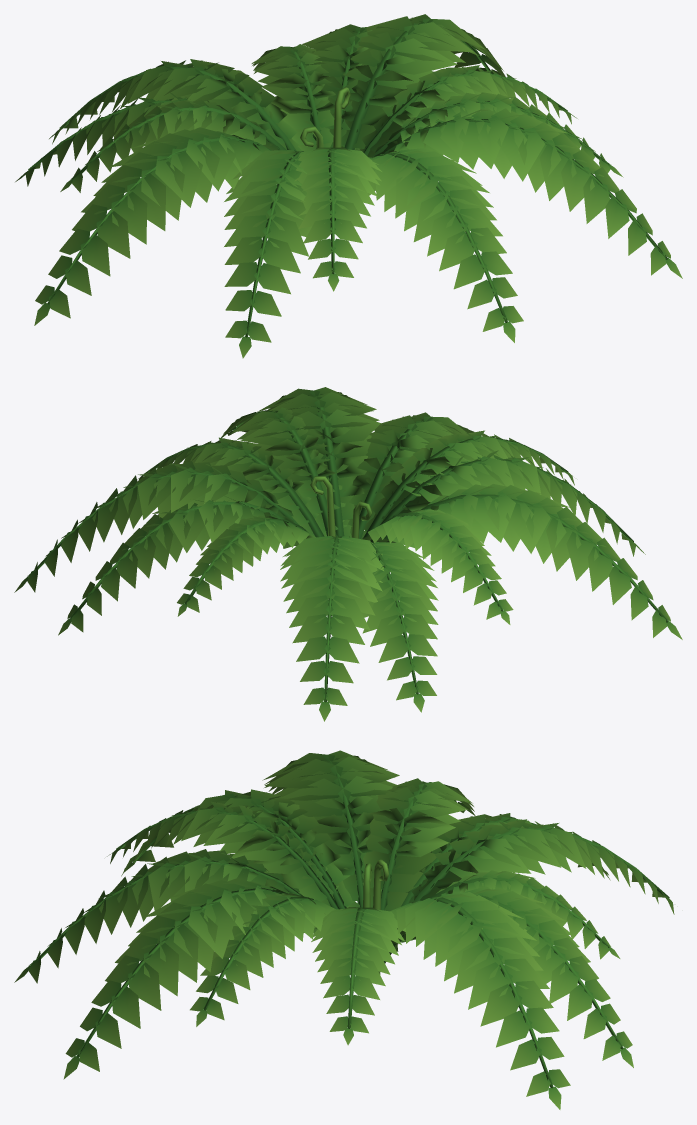
File: plant_fern_a.glb
The picture shows the model from 3 angles, top to bottom: view 1: azimuth 30°, elevation 25°; view 2: azimuth 150°, elevation 25°; view 3: azimuth 270°, elevation 25°; orthographic projection. The views are drawn at different scales.
Visible parts, largest first — view 1: plant_fern_a; view 2: plant_fern_a; view 3: plant_fern_a.
Boxes of the visible parts, <box> form: plant_fern_a: <box>15,14,682,358</box>; plant_fern_a: <box>14,387,682,721</box>; plant_fern_a: <box>14,750,674,1109</box>.
Size of the model in its own units: 1.57 by 0.3391 by 1.48.
